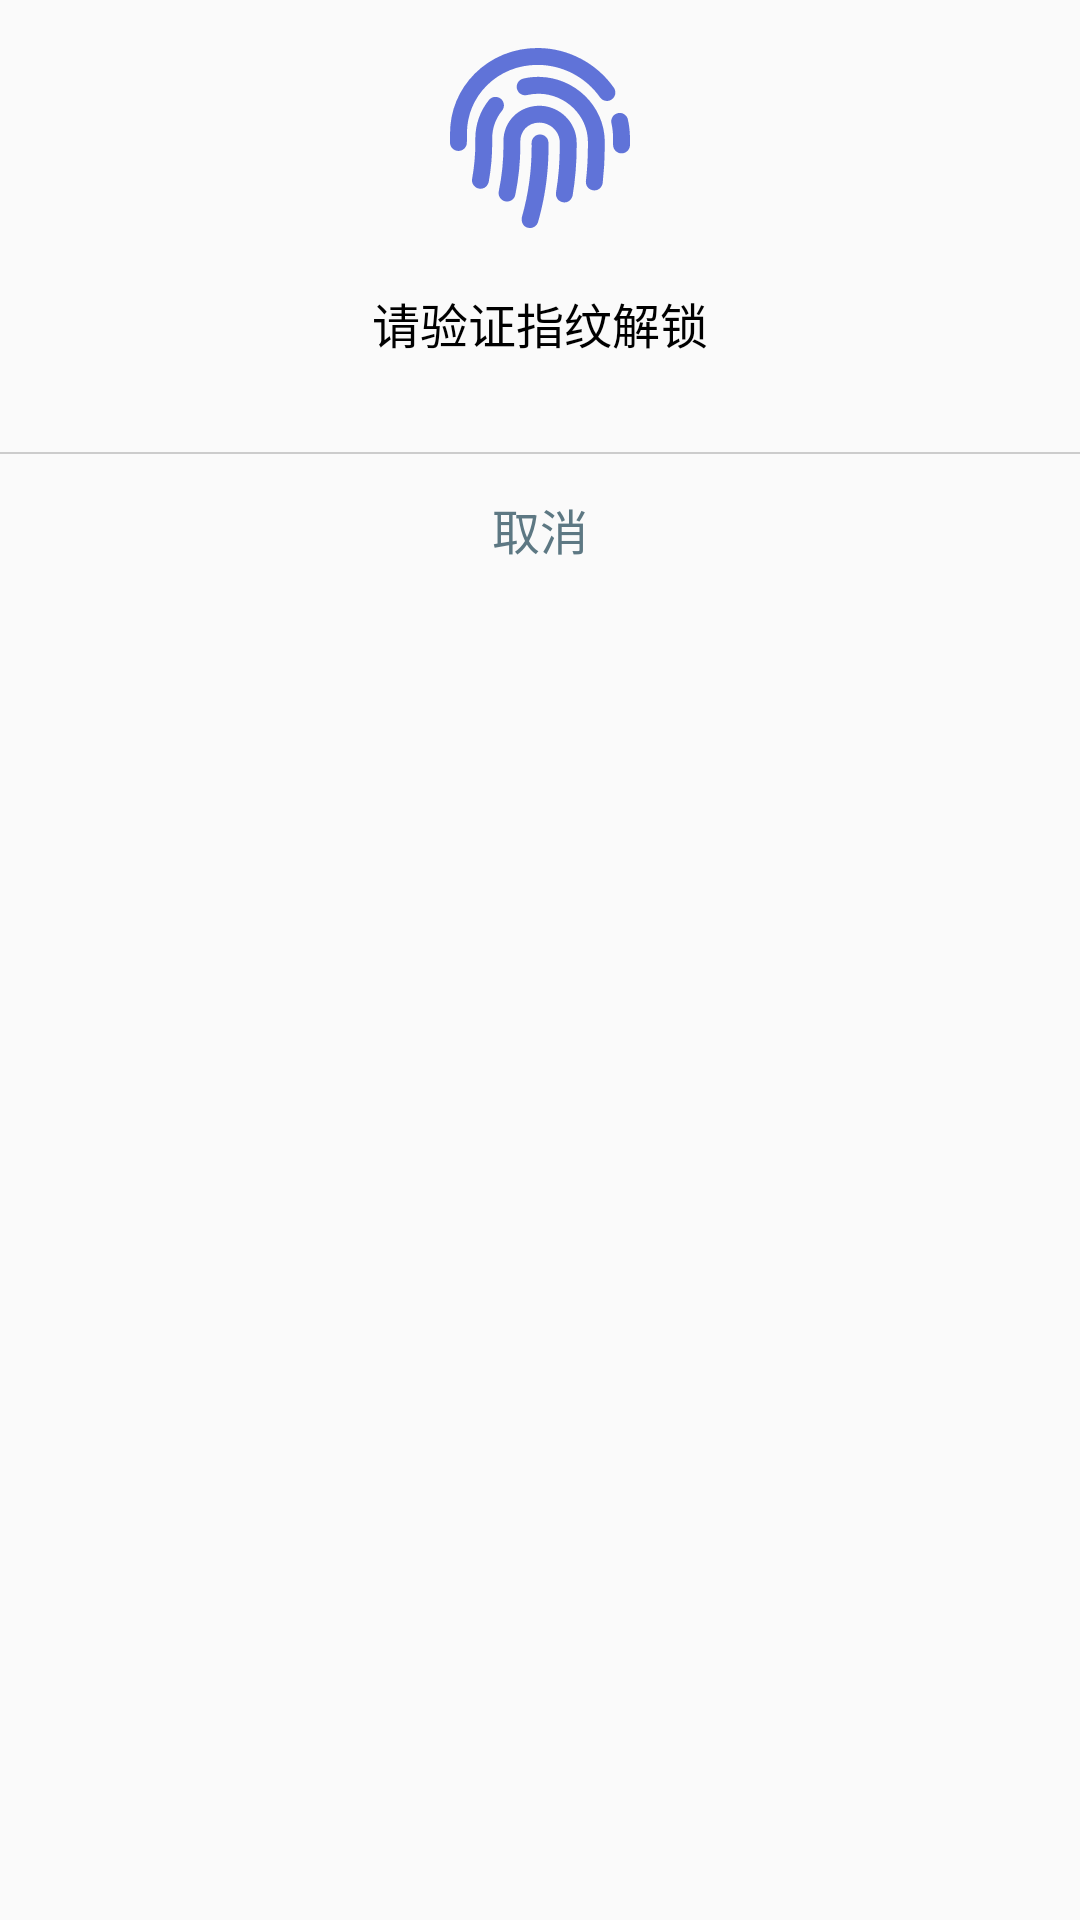

Screen size 1080 × 1920. Icon name, then its center in pixels as point (x, y):
fingerprint: point (540, 138)
